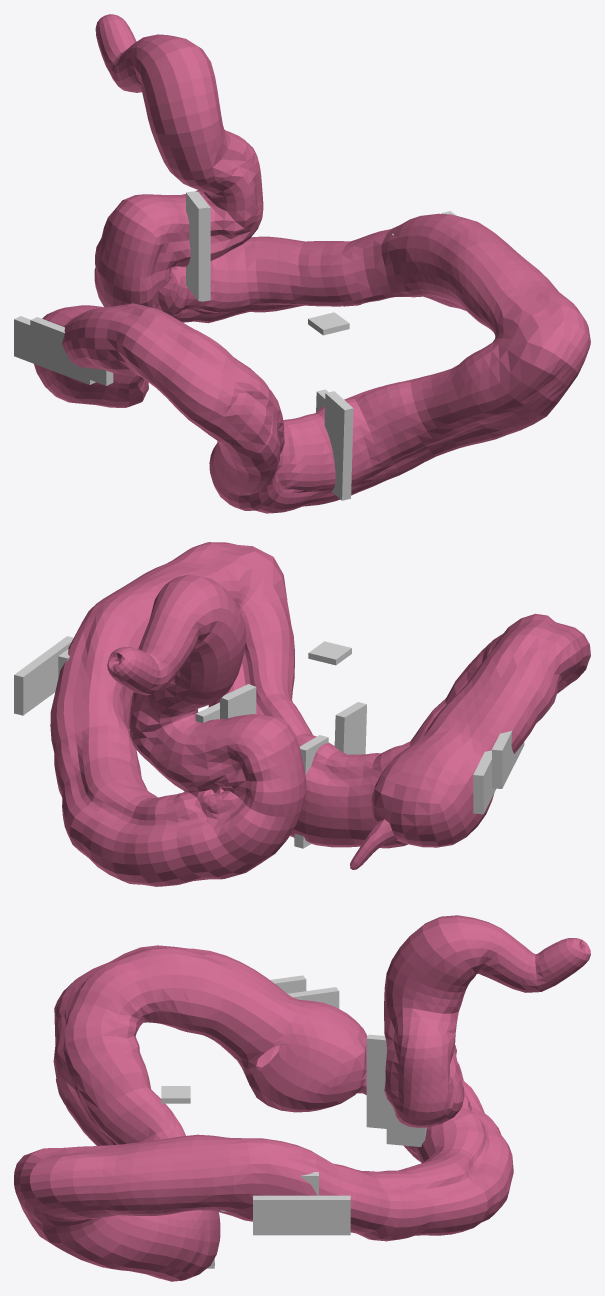
File: non_hra_mapping.glb
3 views of the same model, one above another, from view 1: azimuth 30°, elevation 25°; view 2: azimuth 150°, elevation 25°; view 3: azimuth 270°, elevation 25° (orthographic). The views are drawn at different scales.
Visible parts, largest first — view 1: world; view 2: world; view 3: world.
Boxes of the visible parts, x1=… form: world: x1=14, y1=14, x2=590, y2=513; world: x1=14, y1=542, x2=590, y2=886; world: x1=14, y1=915, x2=590, y2=1281.
Size of the model in its own units: 251 by 193 by 295.
